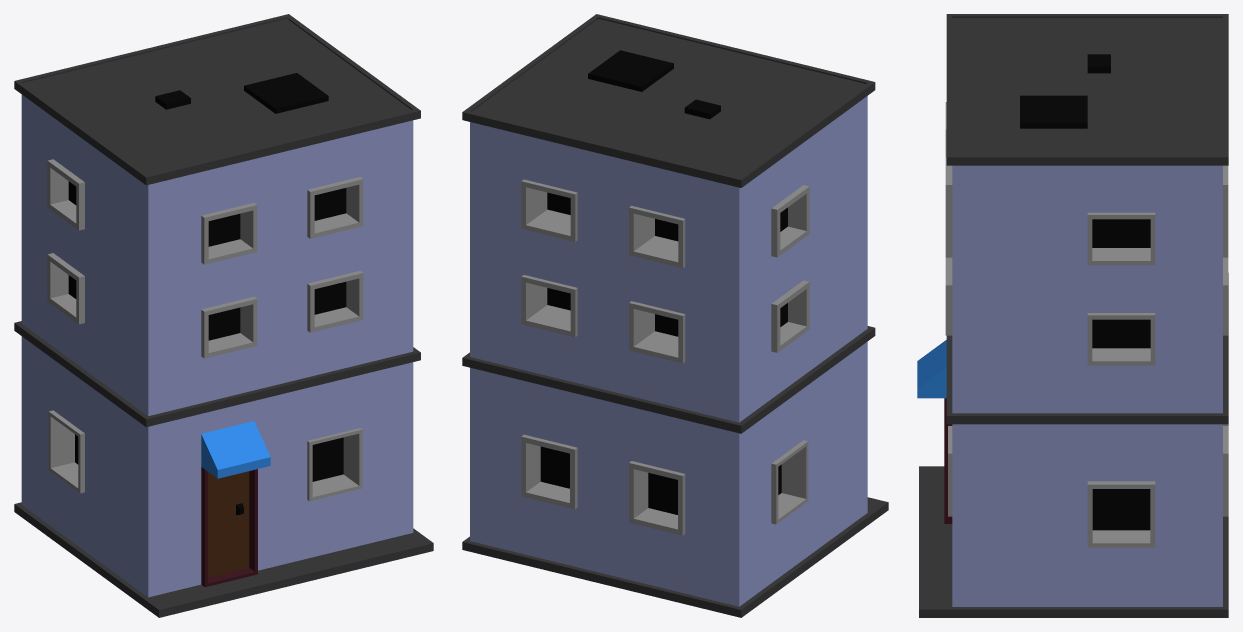
File: lowpolyapartment.fbx
The picture shows the model from 3 angles, left to right: view 1: azimuth 30°, elevation 25°; view 2: azimuth 150°, elevation 25°; view 3: azimuth 270°, elevation 25°; orthographic projection. The views are drawn at different scales.
Parts seen in each view (by area): view 1: Cube; view 2: Cube; view 3: Cube.
Boxes of the visible parts, bbox=[...] form: Cube: bbox=[14, 14, 433, 617]; Cube: bbox=[462, 14, 888, 617]; Cube: bbox=[917, 14, 1228, 617].
Bounding box in the file's own units: 1098 × 1643 × 997.
